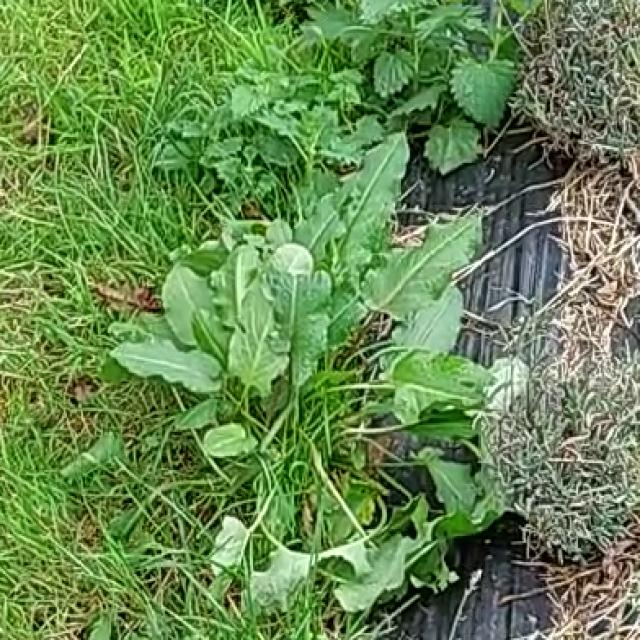organic waste: (74, 130, 542, 607)
